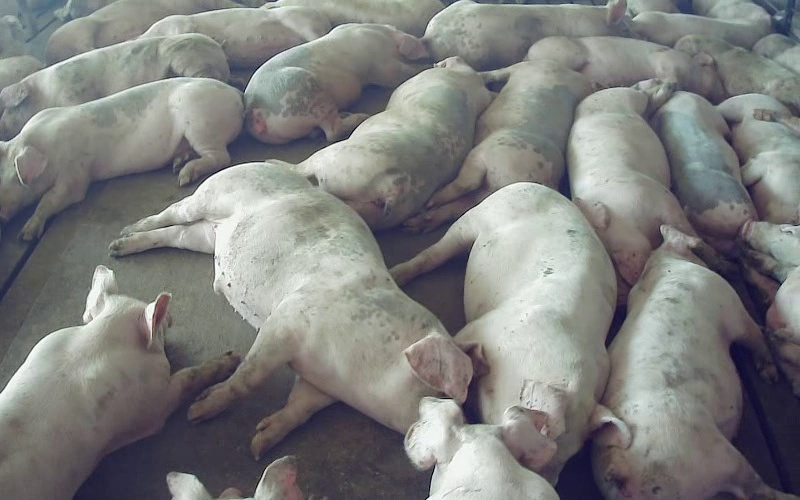pig: (110, 162, 472, 457), (391, 182, 629, 482), (0, 266, 239, 499), (593, 226, 787, 499), (0, 77, 242, 239), (297, 58, 492, 229), (404, 60, 590, 231), (0, 33, 229, 140), (244, 25, 427, 143), (652, 91, 756, 255), (424, 0, 627, 69), (526, 36, 724, 101), (141, 6, 331, 68), (717, 94, 799, 223), (674, 35, 799, 115)
